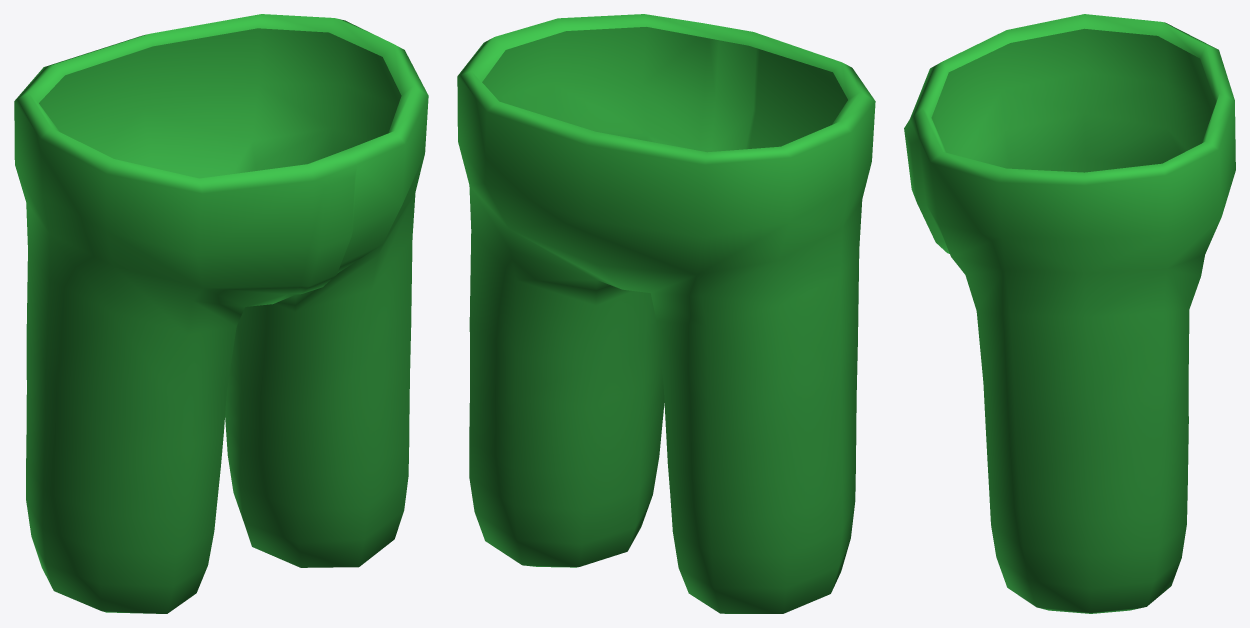
Rendered from Bottom_41.fbx.
The picture shows the model from 3 angles, left to right: view 1: azimuth 30°, elevation 25°; view 2: azimuth 150°, elevation 25°; view 3: azimuth 270°, elevation 25°; orthographic projection. The views are drawn at different scales.
Parts seen in each view (by area): view 1: Bottom_41; view 2: Bottom_41; view 3: Bottom_41.
Boxes of the visible parts, box(x1,y1,x2,y2) form: Bottom_41: box(14, 14, 428, 613); Bottom_41: box(457, 14, 875, 613); Bottom_41: box(904, 14, 1235, 613).
Size of the model in its own units: 38.42 by 48.68 by 31.97.
